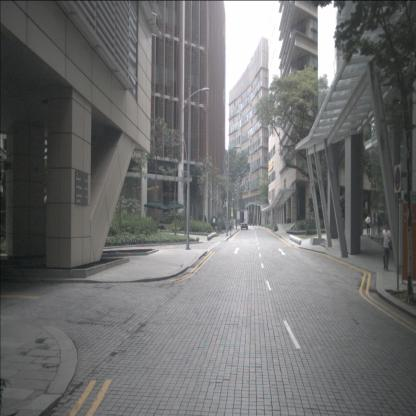human-pedestrian-adult: (381, 221, 391, 271), (366, 213, 370, 238), (212, 216, 217, 235), (229, 217, 232, 236), (204, 215, 207, 231)
vehicle-truck: (237, 209, 248, 230)
